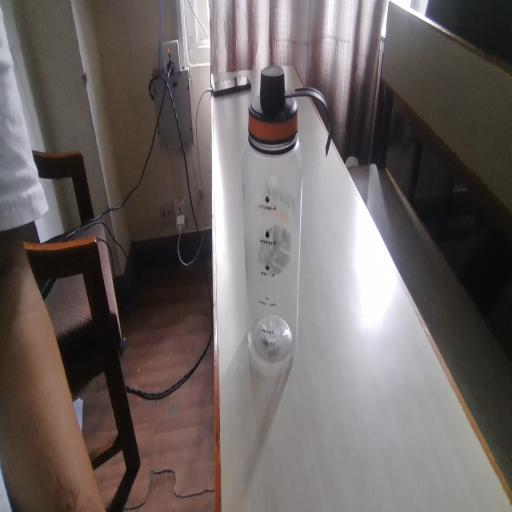Bottle: (230, 81, 333, 388)
